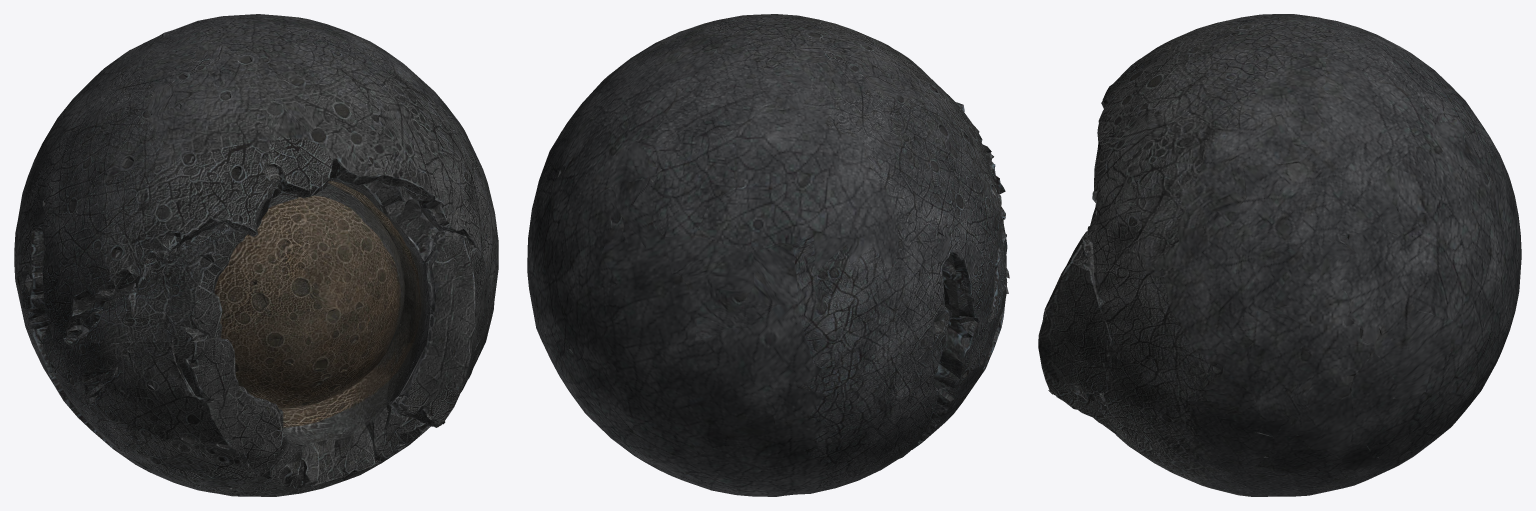
The model's file is Mercury_Remnants.glb.
The picture shows the model from 3 angles, left to right: view 1: azimuth 30°, elevation 25°; view 2: azimuth 150°, elevation 25°; view 3: azimuth 270°, elevation 25°; orthographic projection.
Visible parts, largest first — view 1: output_unwrapped; view 2: output_unwrapped; view 3: output_unwrapped.
Boxes of the visible parts, x1,y1,x2,y2 form: output_unwrapped: (14, 14, 498, 496); output_unwrapped: (527, 14, 1009, 496); output_unwrapped: (1038, 14, 1521, 496).
Size of the model in its own units: 1.89 by 1.9 by 1.9.
Materials: 1 (1 with a texture image).
